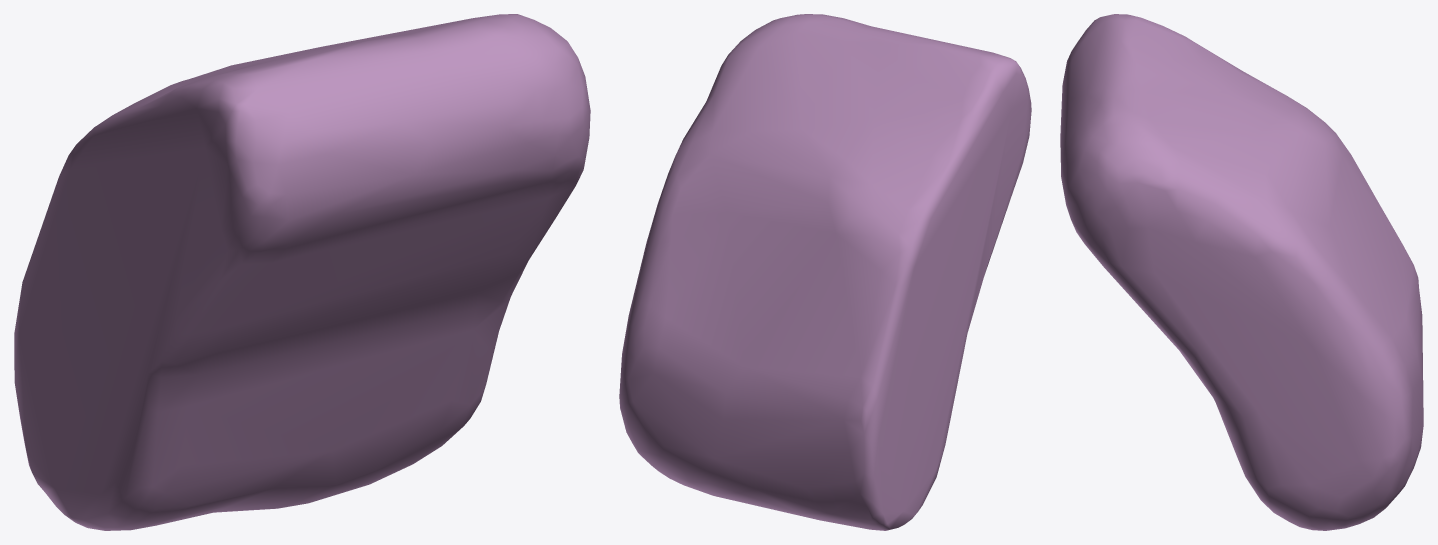
3 views of the same model, side by side, from view 1: azimuth 30°, elevation 25°; view 2: azimuth 150°, elevation 25°; view 3: azimuth 270°, elevation 25° (orthographic). The views are drawn at different scales.
Parts seen in each view (by area): view 1: 左侧视交叉; view 2: 左侧视交叉; view 3: 左侧视交叉.
Part boxes in pixels (x1,y1,x2,y2): 左侧视交叉: (14,14,590,530); 左侧视交叉: (619,14,1031,530); 左侧视交叉: (1060,14,1423,530).
Bounding box in the file's own units: 0.0105 × 0.0147 × 0.0116.
